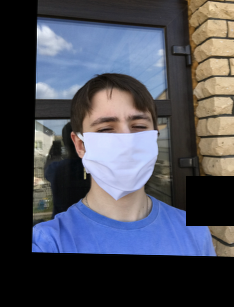with_mask: (76, 100, 157, 201)
